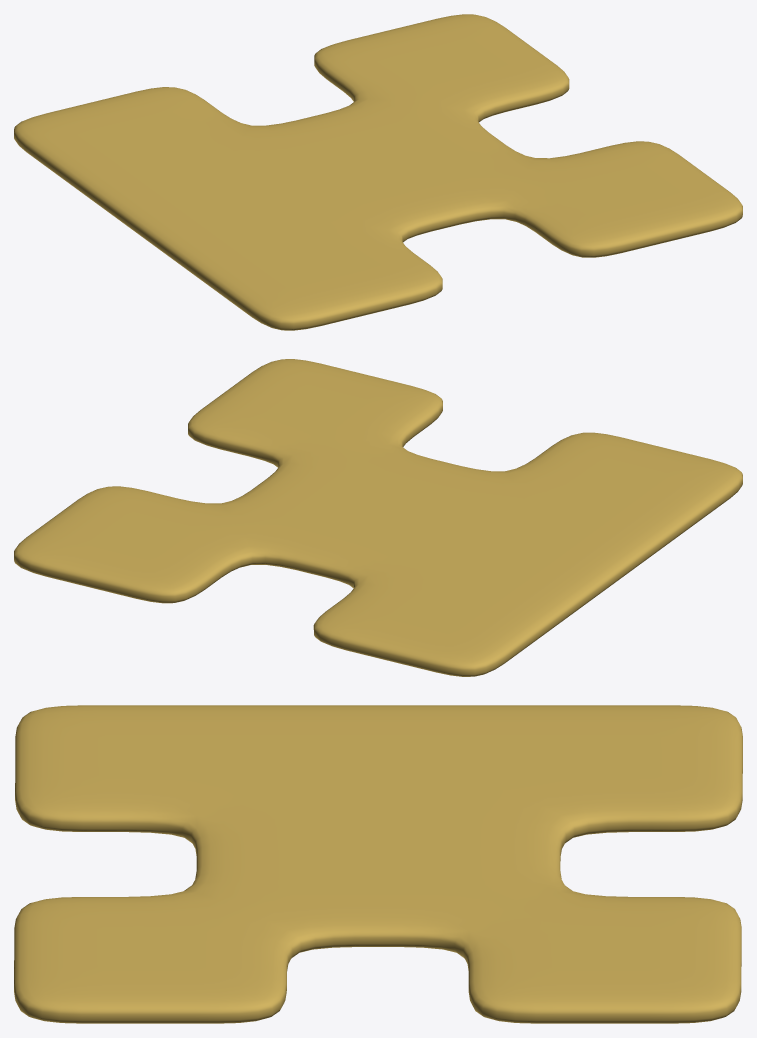
File: GoldenPuzzle-16-OFFF.fbx
3 renders of one model, top to bottom at view 1: azimuth 30°, elevation 25°; view 2: azimuth 150°, elevation 25°; view 3: azimuth 270°, elevation 25°, orthographic. The views are drawn at different scales.
Parts seen in each view (by area): view 1: Puzzle_016; view 2: Puzzle_016; view 3: Puzzle_016.
Part boxes in pixels (bbox=[...]): Puzzle_016: bbox=[14, 14, 742, 330]; Puzzle_016: bbox=[14, 359, 742, 676]; Puzzle_016: bbox=[14, 705, 742, 1023].
Size of the model in its own units: 0.25 by 0.00924 by 0.2514.
